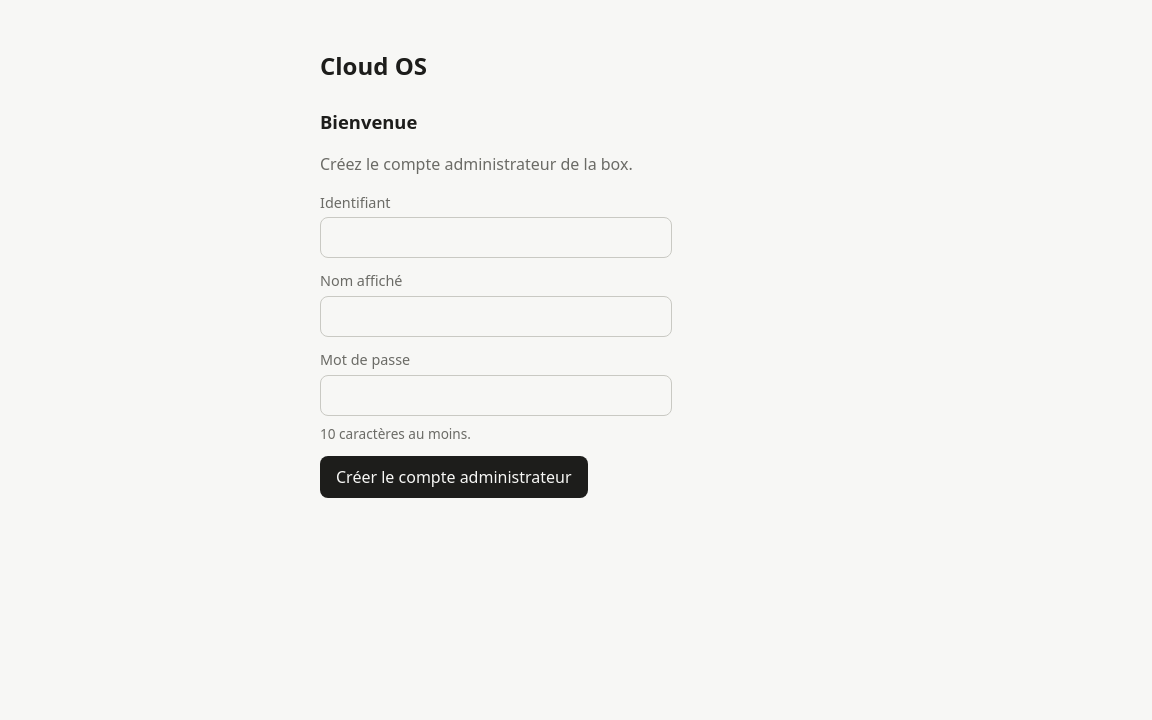
Test: App › shows the first-start wizard, then the home page once the admin exists
Expected: the button "Créer le compte administrateur" is shown, [320,456,588,498]
In the field labelled "Identifiant": (496, 238) [320,217,672,258], type "enzo"
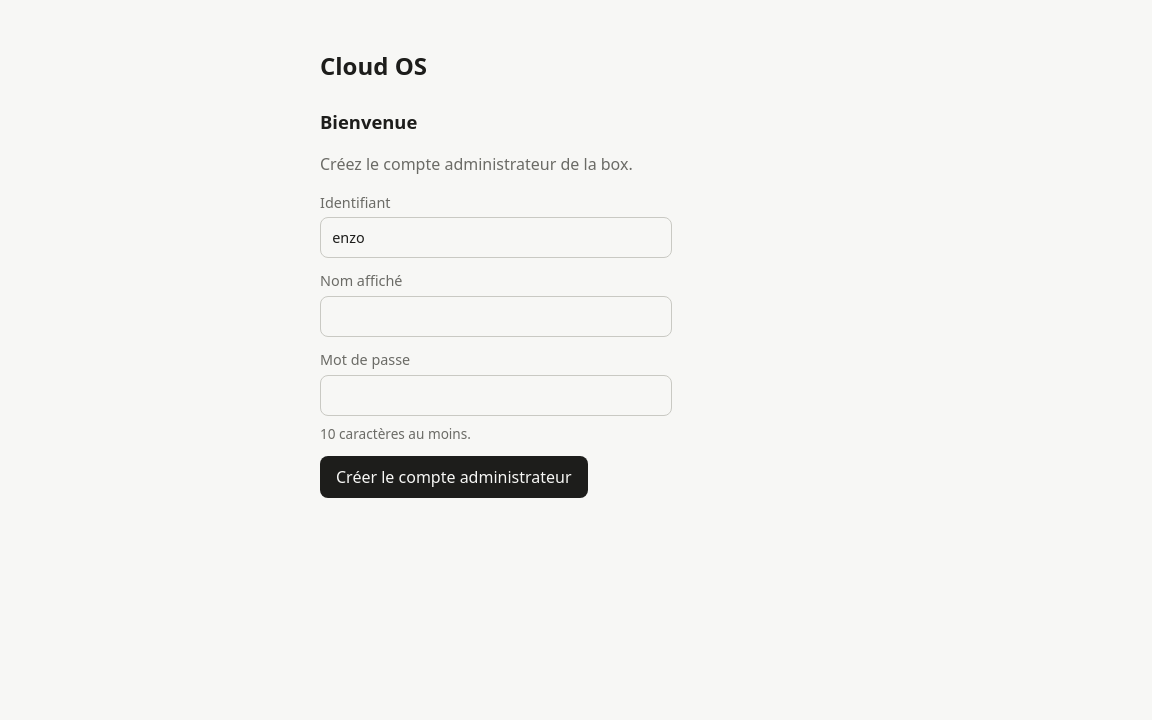
In the field labelled "Nom affiché": (496, 317) [320,296,672,337], type "Enzo"
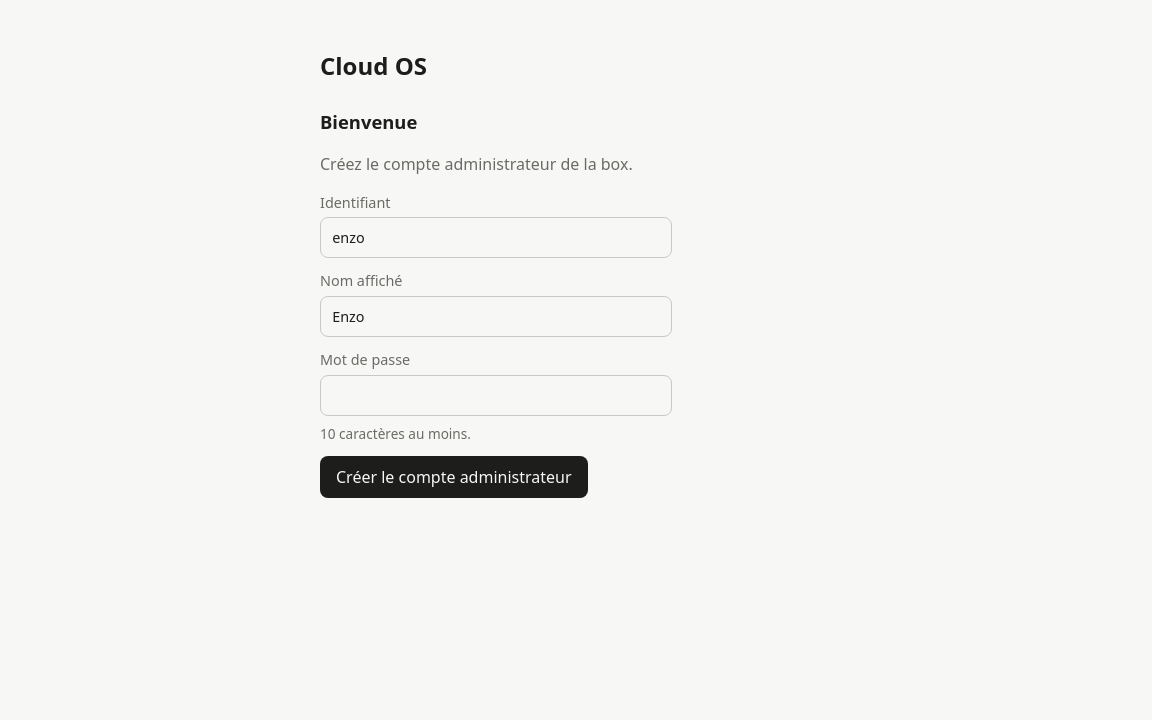
In the password field labelled "Mot de passe": (496, 395) [320,375,672,416], type "correct horse battery"
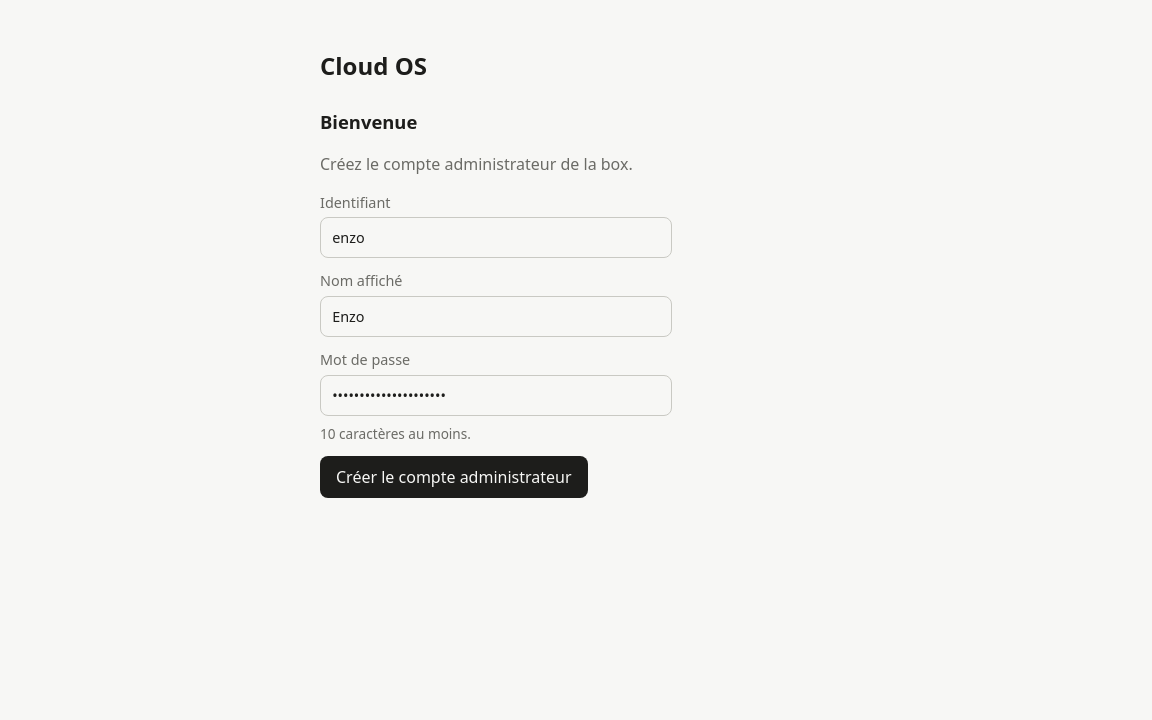
Click the button "Créer le compte administrateur": (454, 477) [320,456,588,498]
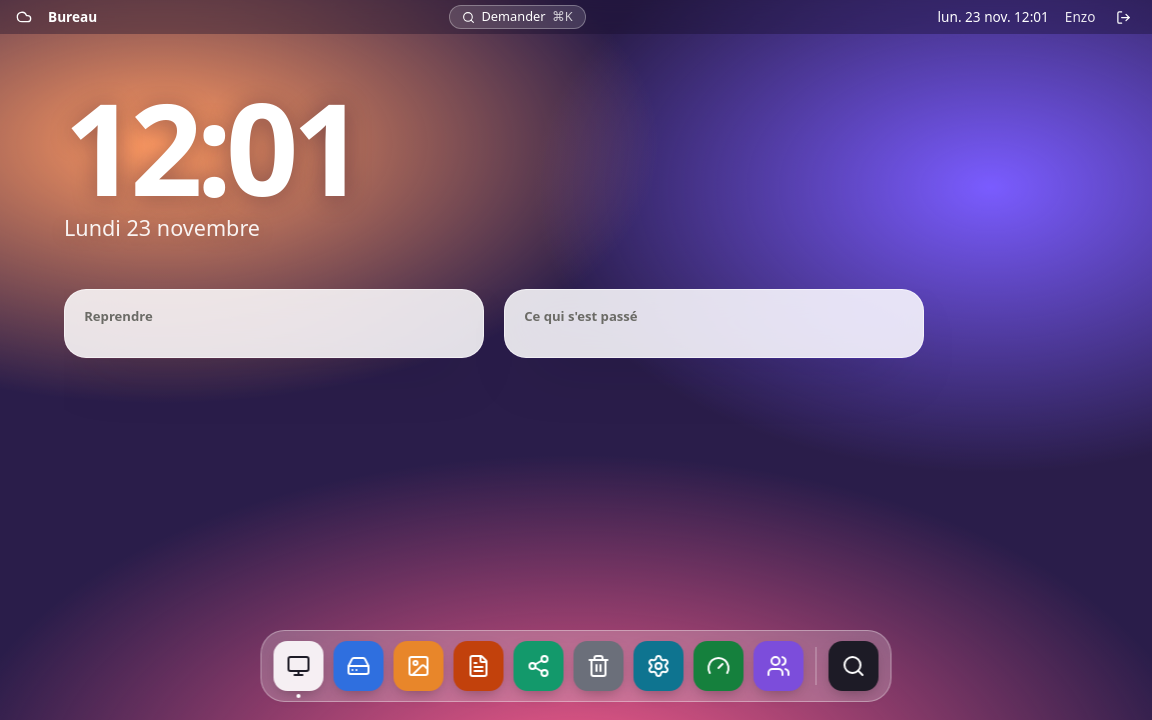
Now the button named "Comptes" is shown, box [754,641,804,691]
Now the text "Enzo" is shown, box [1065,7,1095,27]
Click the button named "Fichiers": (358, 666) [334,641,384,691]
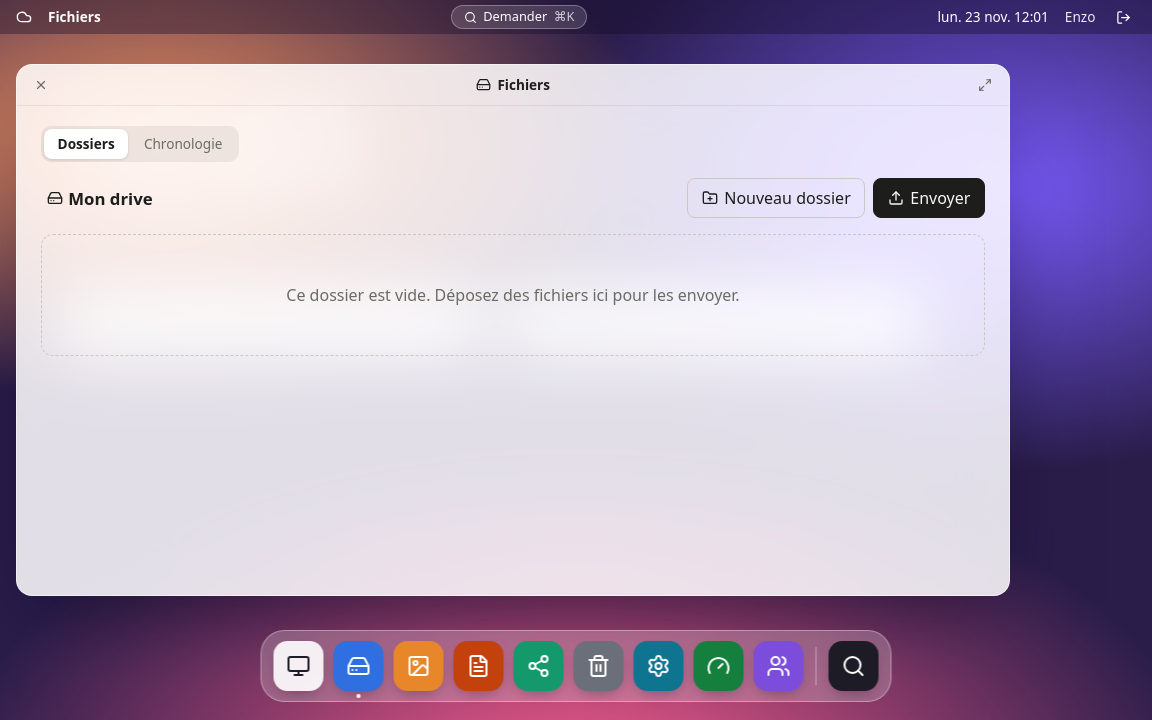
Now the text "Ce dossier est vide" is shown, box [286,284,740,306]
